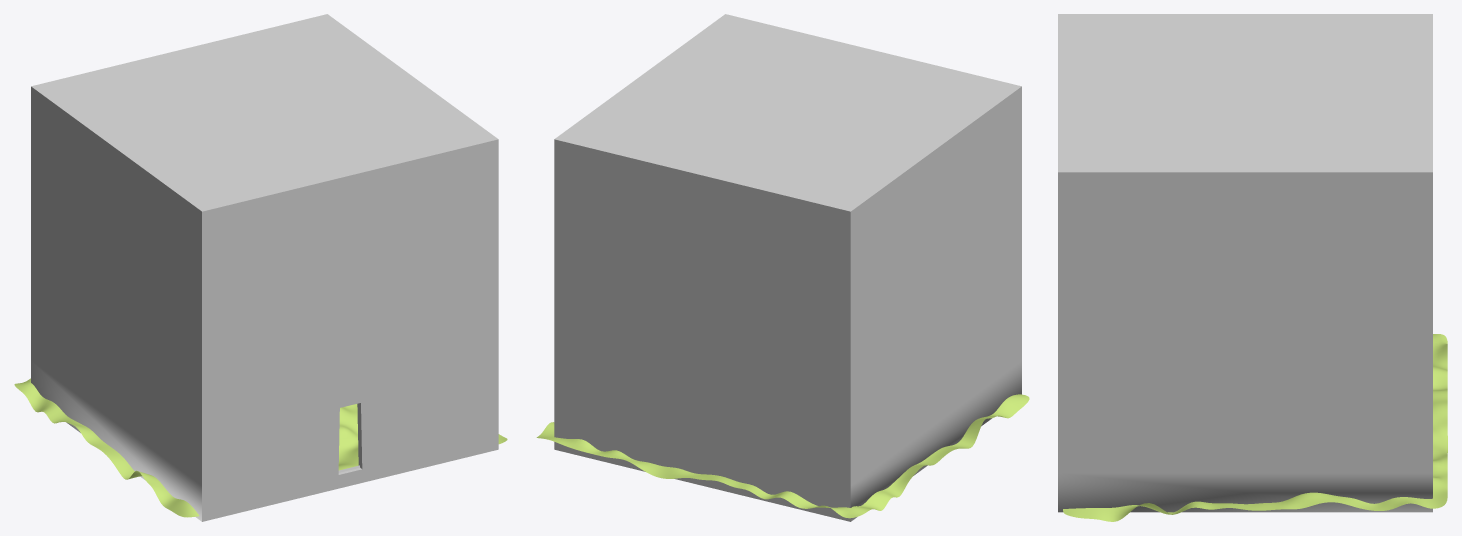
Rendered from Wiese mit Portal_Collection.fbx.
3 views of the same model, side by side, from view 1: azimuth 30°, elevation 25°; view 2: azimuth 150°, elevation 25°; view 3: azimuth 270°, elevation 25° (orthographic). The views are drawn at different scales.
Parts seen in each view (by area): view 1: Cube, Plane; view 2: Cube, Plane; view 3: Cube, Plane.
Boxes of the visible parts, box(x1,y1,x2,y2) form: Cube: box(31, 14, 498, 521); Plane: box(14, 378, 507, 517); Cube: box(554, 14, 1021, 521); Plane: box(536, 394, 1029, 518); Cube: box(1058, 14, 1432, 512); Plane: box(1063, 334, 1447, 521).
Bounding box in the file's own units: 1096 × 1010 × 1040.
